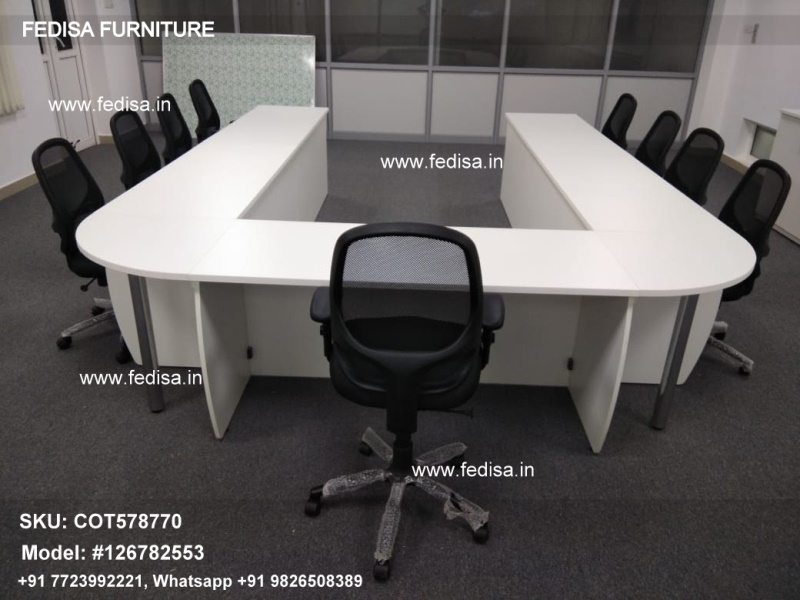conference_table: (76, 107, 756, 456)
